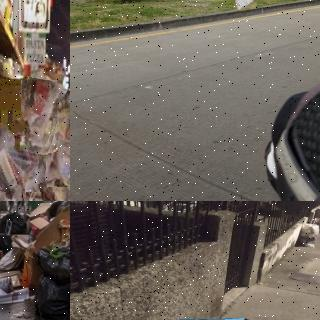Garbage: (0, 119, 44, 195), (18, 79, 60, 155), (30, 242, 70, 320), (45, 117, 70, 187), (25, 170, 70, 201), (232, 0, 256, 10)
